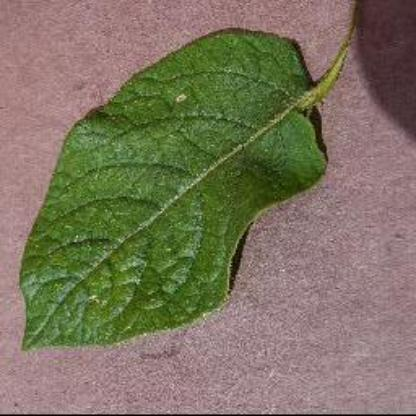Healthy-plant: (11, 13, 338, 362)
